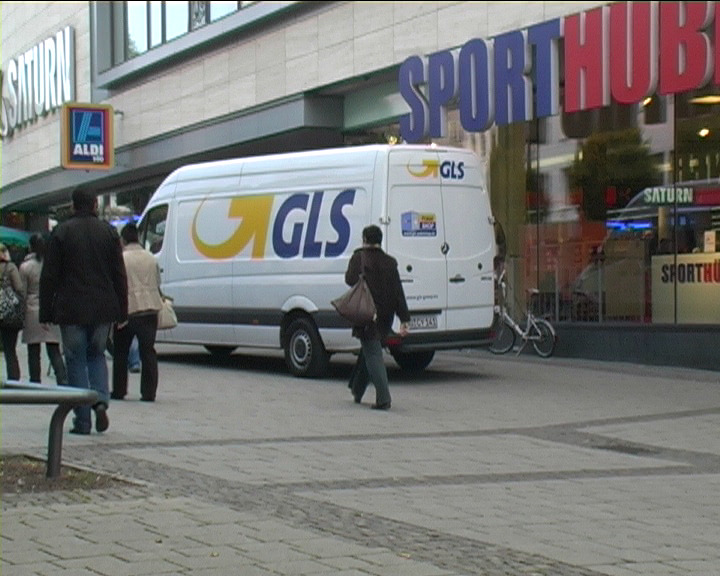undeflect: (347, 224, 401, 279)
